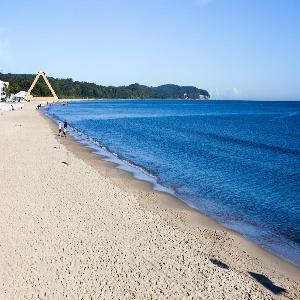triangle: (19, 69, 61, 105)
